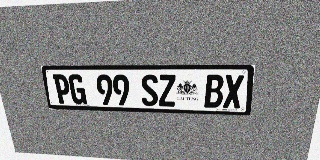9: (96, 74, 114, 105), (112, 74, 130, 105)
B: (204, 75, 224, 108)
G: (68, 74, 87, 104)
P: (52, 74, 72, 104)
S: (140, 74, 158, 106)
X: (223, 75, 244, 108)
Z: (158, 75, 176, 107)
